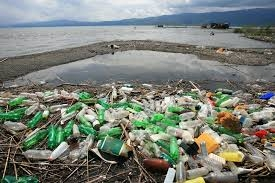plastic: (20, 127, 50, 148), (41, 120, 60, 150), (162, 134, 182, 159), (201, 169, 236, 183), (182, 165, 212, 181), (18, 148, 53, 161), (26, 110, 46, 128), (172, 160, 187, 183), (61, 117, 76, 137), (92, 107, 108, 124), (65, 100, 84, 114), (95, 97, 113, 110), (78, 124, 97, 135)
